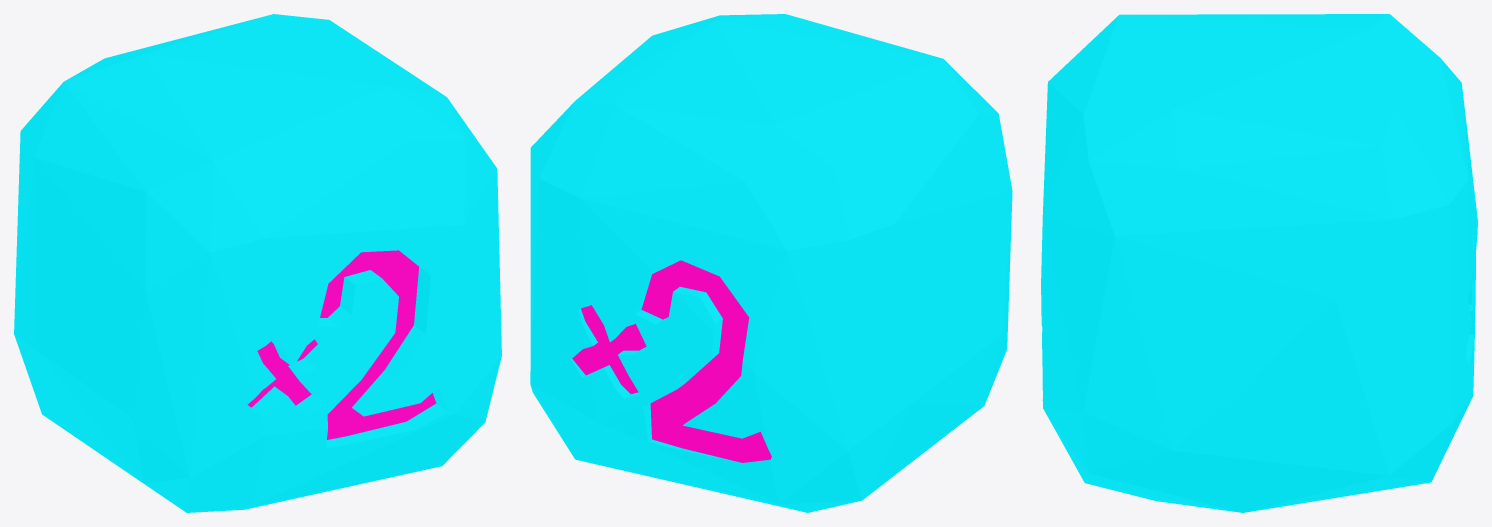
Rendered from double_points_trap.glb.
3 renders of one model, left to right at view 1: azimuth 30°, elevation 25°; view 2: azimuth 150°, elevation 25°; view 3: azimuth 270°, elevation 25°, orthographic. The views are drawn at different scales.
Visible parts, largest first — view 1: double_points_trap_BAKED; view 2: double_points_trap_BAKED; view 3: double_points_trap_BAKED.
Boxes of the visible parts, bbox=[...] form: double_points_trap_BAKED: bbox=[14, 14, 501, 512]; double_points_trap_BAKED: bbox=[530, 14, 1012, 512]; double_points_trap_BAKED: bbox=[1041, 14, 1477, 512].
Size of the model in its own units: 1.99 by 1.98 by 1.98.
